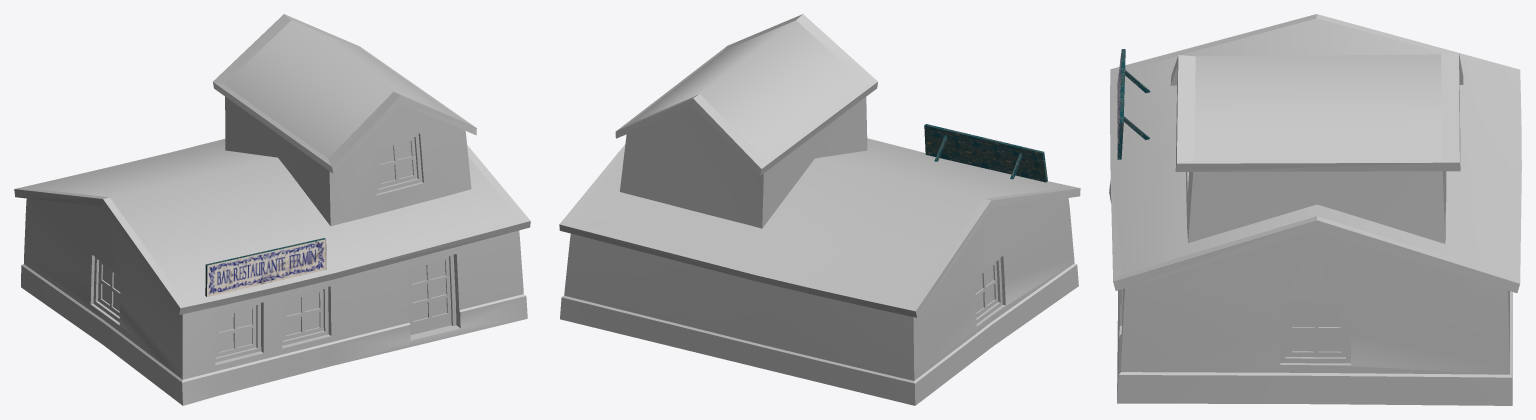
File: Bar.fbx
3 renders of one model, left to right at view 1: azimuth 30°, elevation 25°; view 2: azimuth 150°, elevation 25°; view 3: azimuth 270°, elevation 25°, orthographic. The views are drawn at different scales.
Parts seen in each view (by area): view 1: Box036, Box037; view 2: Box036, Box037; view 3: Box036, Box037.
Part boxes in pixels (box(x1,y1,x2,y2)): Box036: box(14, 14, 530, 405); Box037: box(205, 238, 326, 296); Box036: box(559, 14, 1080, 405); Box037: box(924, 124, 1047, 182); Box036: box(1109, 14, 1521, 405); Box037: box(1117, 49, 1150, 159).
Size of the model in its own units: 11.43 by 7.07 by 9.24.
